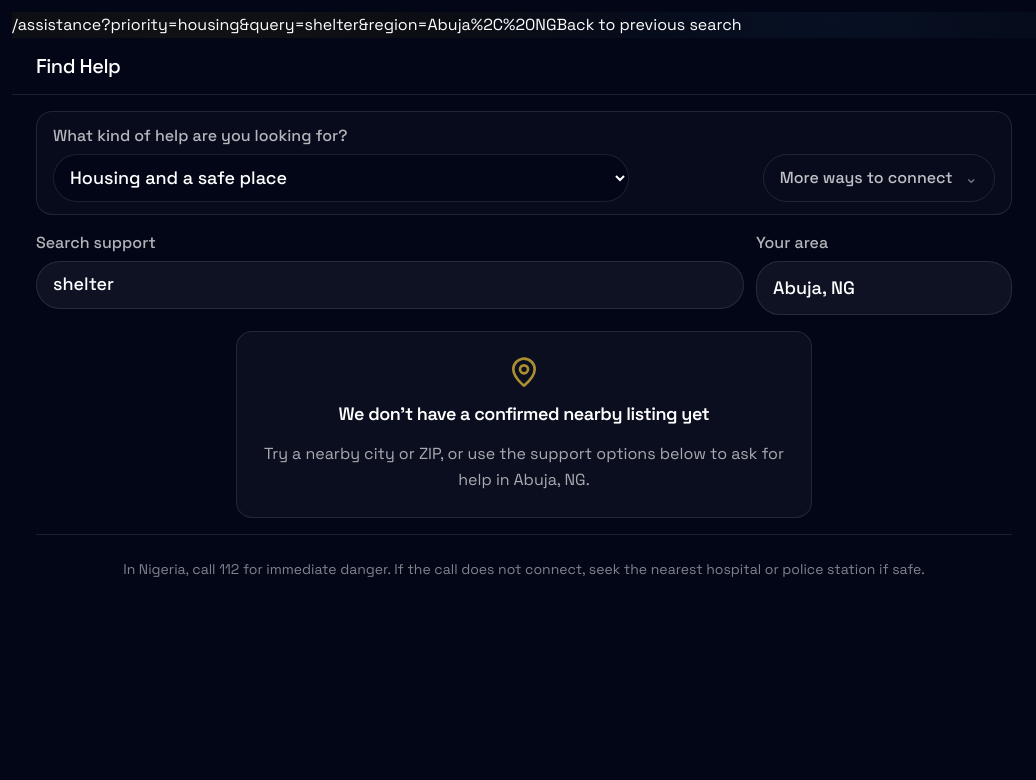
Test case: real-world assistance search states › clears an unrelated search term when the support category changes
The width and height of the screenshot is (1036, 780).
Select "Peer and community circles" in the dropdown named "Support type" at (341, 178), box [53,154,629,202]
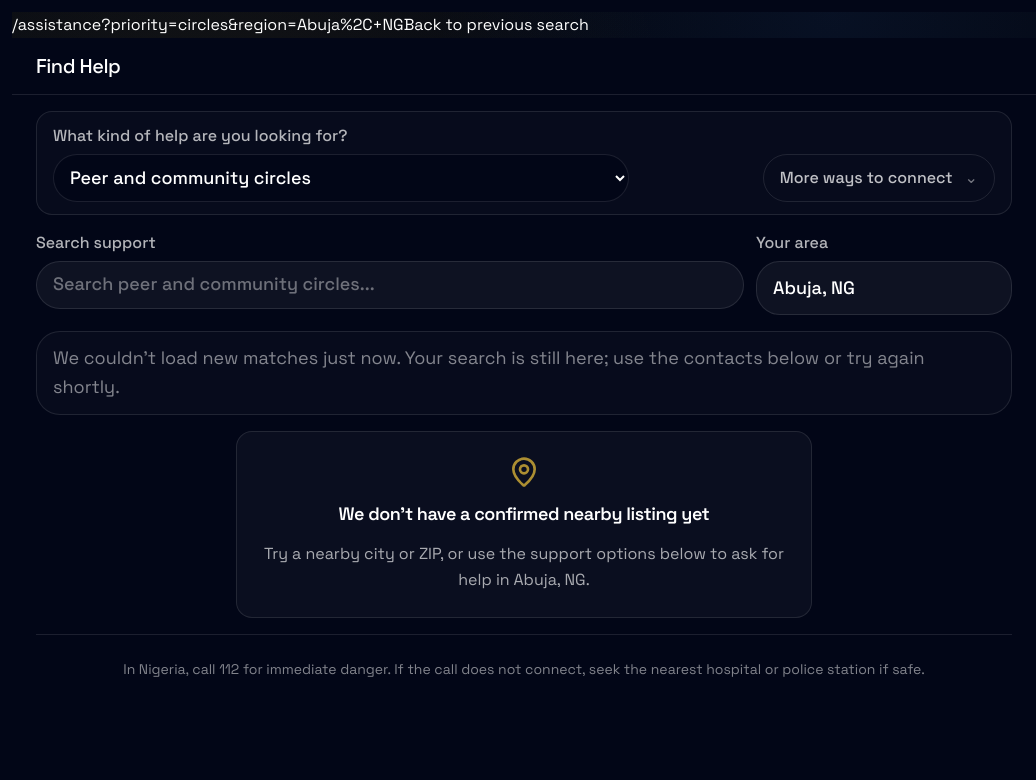
Check: the text named "Current search URL" shows "priority=circles", box [101,14,404,35]
Check: the field labelled "Search support" is empty, box [36,261,744,309]
